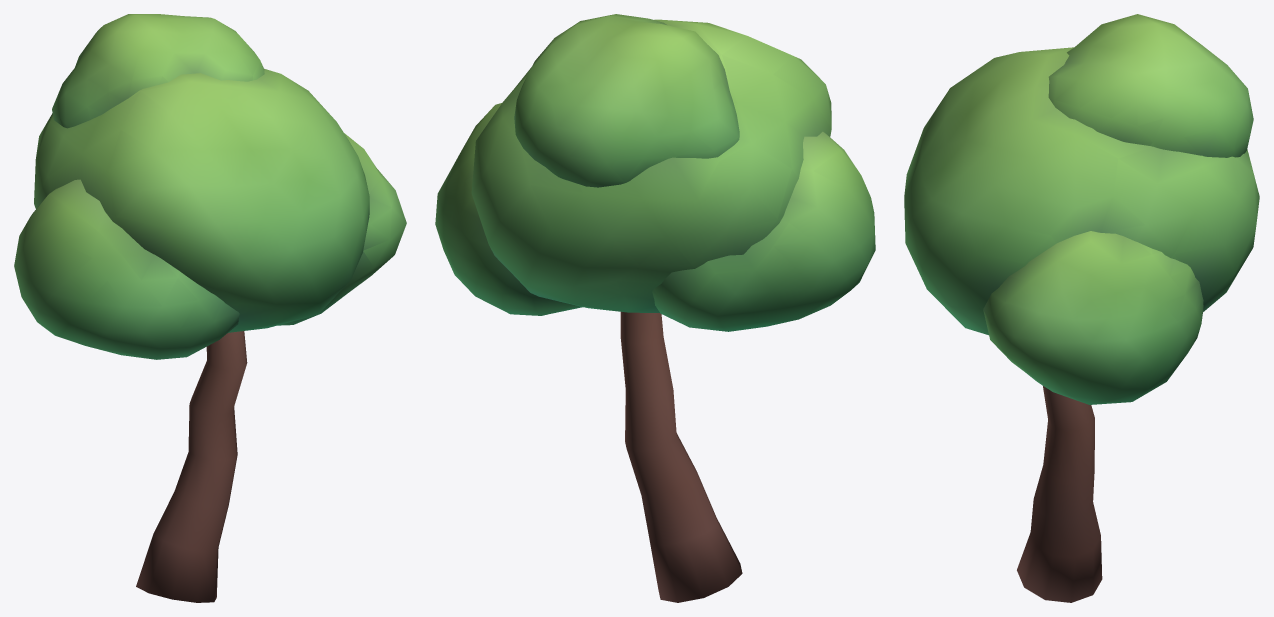
File: verdant_tree_test.glb
3 renders of one model, left to right at view 1: azimuth 30°, elevation 25°; view 2: azimuth 150°, elevation 25°; view 3: azimuth 270°, elevation 25°, orthographic. The views are drawn at different scales.
Visible parts, largest first — view 1: verdant_tree_test; view 2: verdant_tree_test; view 3: verdant_tree_test.
Part boxes in pixels (x1,y1,x2,y2): verdant_tree_test: (14,14,406,602); verdant_tree_test: (435,14,875,602); verdant_tree_test: (904,14,1259,602).
Size of the model in its own units: 5.52 by 7.97 by 4.54.
